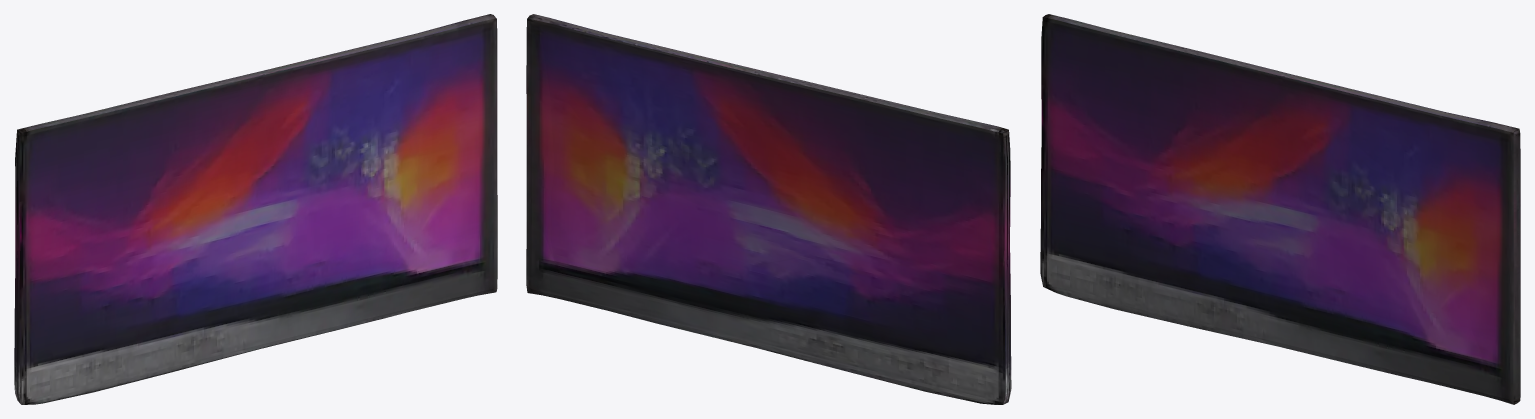
Rendered from panel_wall_pinkorange.glb.
3 renders of one model, left to right at view 1: azimuth 30°, elevation 25°; view 2: azimuth 150°, elevation 25°; view 3: azimuth 330°, elevation 25°, orthographic.
Visible parts, largest first — view 1: geometry_0.006; view 2: geometry_0.006; view 3: geometry_0.006.
Boxes of the visible parts, bbox=[...] form: geometry_0.006: bbox=[14, 14, 497, 404]; geometry_0.006: bbox=[526, 14, 1011, 404]; geometry_0.006: bbox=[1040, 14, 1520, 404].
Bounding box in the file's own units: 0.3074 × 0.1703 × 0.00848.
1 material, 1 textured.
